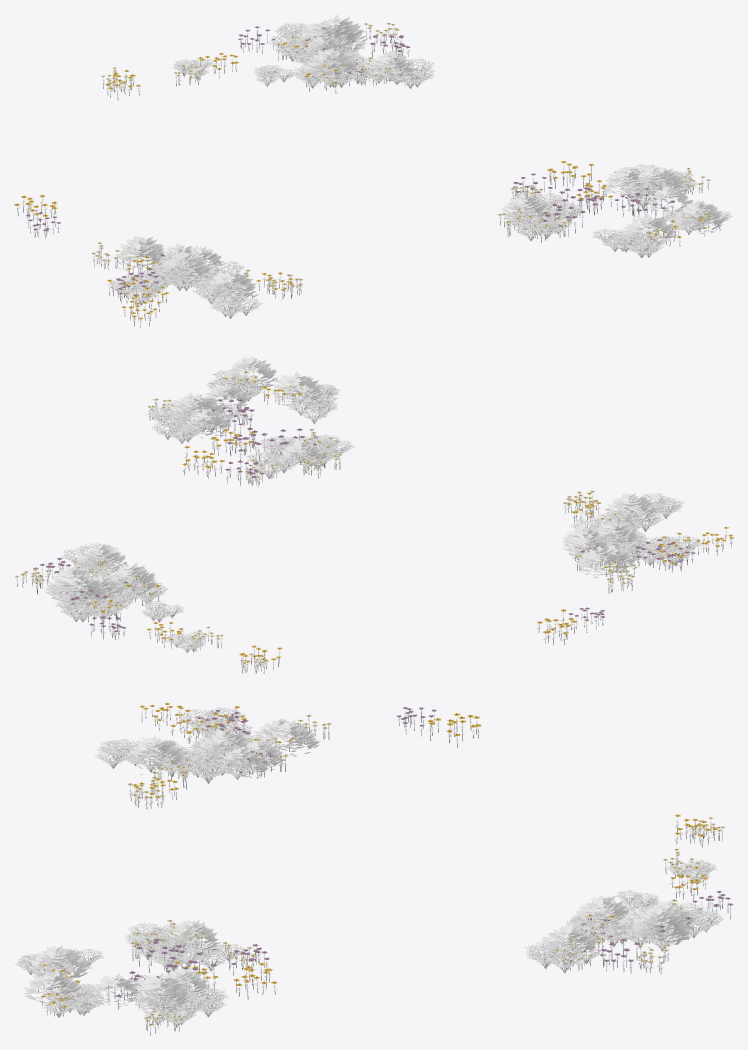
The model's file is SM_DF_Explorer_0_3_Flora.fbx.
The picture shows the model from 3 angles, top to bottom: view 1: azimuth 30°, elevation 25°; view 2: azimuth 150°, elevation 25°; view 3: azimuth 270°, elevation 25°; orthographic projection. The views are drawn at different scales.
Parts seen in each view (by area): view 1: SM_DF_Explorer_0_3_Flora; view 2: SM_DF_Explorer_0_3_Flora; view 3: SM_DF_Explorer_0_3_Flora.
Part boxes in pixels (x1,y1,x2,y2): SM_DF_Explorer_0_3_Flora: (14,15,732,327); SM_DF_Explorer_0_3_Flora: (14,356,733,673); SM_DF_Explorer_0_3_Flora: (14,702,733,1035).
Bounding box in the file's own units: 2513 × 2404 × 204.
